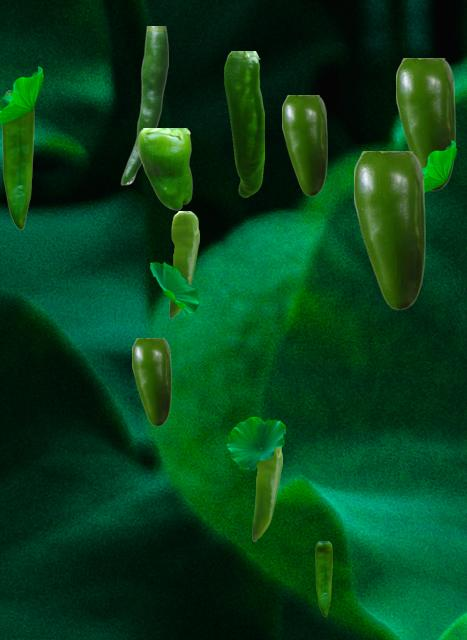green_chili: (354, 151, 424, 309), (396, 58, 454, 190), (120, 26, 167, 184), (224, 51, 263, 196), (1, 90, 33, 228), (282, 95, 326, 195), (137, 128, 191, 209), (132, 338, 170, 425), (169, 211, 198, 317), (252, 448, 281, 540), (315, 541, 331, 615)
